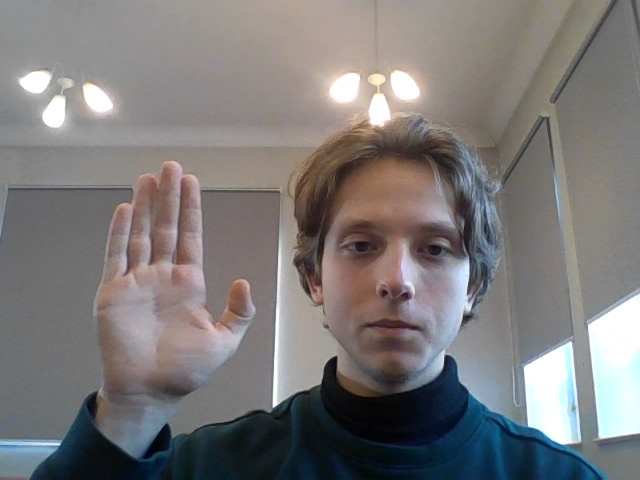hello: (94, 157, 265, 401)
